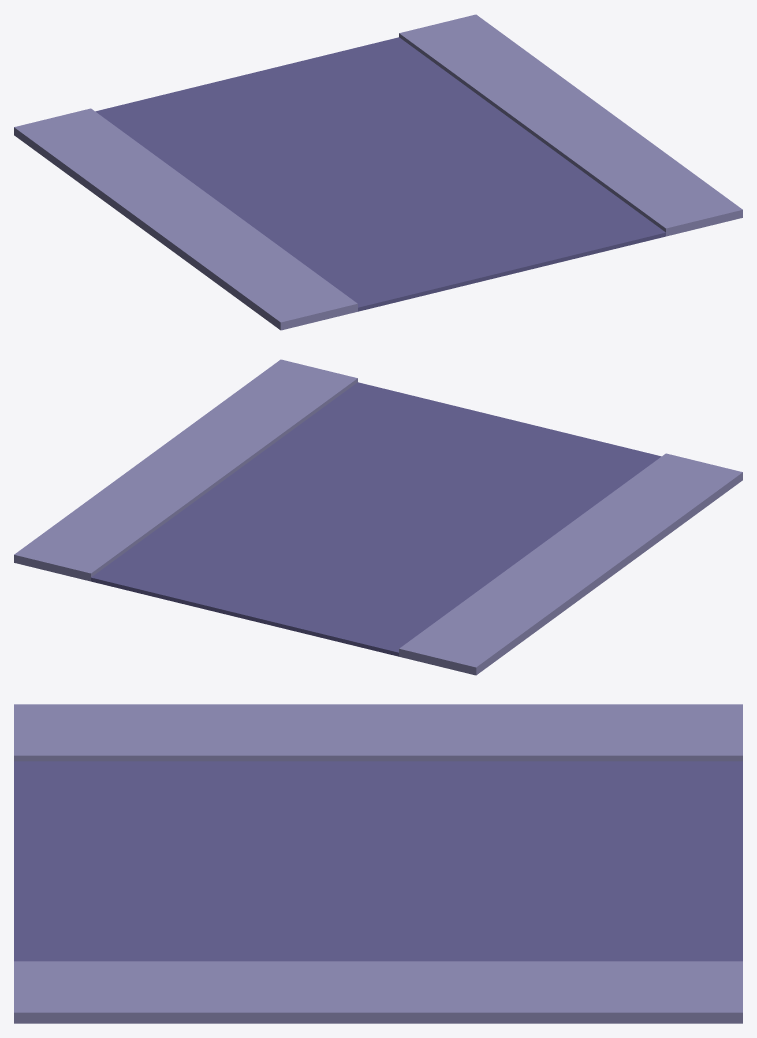
Rendered from Road_Straight3.fbx.
3 renders of one model, top to bottom at view 1: azimuth 30°, elevation 25°; view 2: azimuth 150°, elevation 25°; view 3: azimuth 270°, elevation 25°, orthographic. The views are drawn at different scales.
Parts seen in each view (by area): view 1: mergedBlocks; view 2: mergedBlocks; view 3: mergedBlocks.
Boxes of the visible parts, left/top/right/bottom form: mergedBlocks: left=14, top=14, right=742, bottom=330; mergedBlocks: left=14, top=359, right=742, bottom=675; mergedBlocks: left=14, top=704, right=742, bottom=1023.
Size of the model in its own units: 150 by 2.5 by 150.
